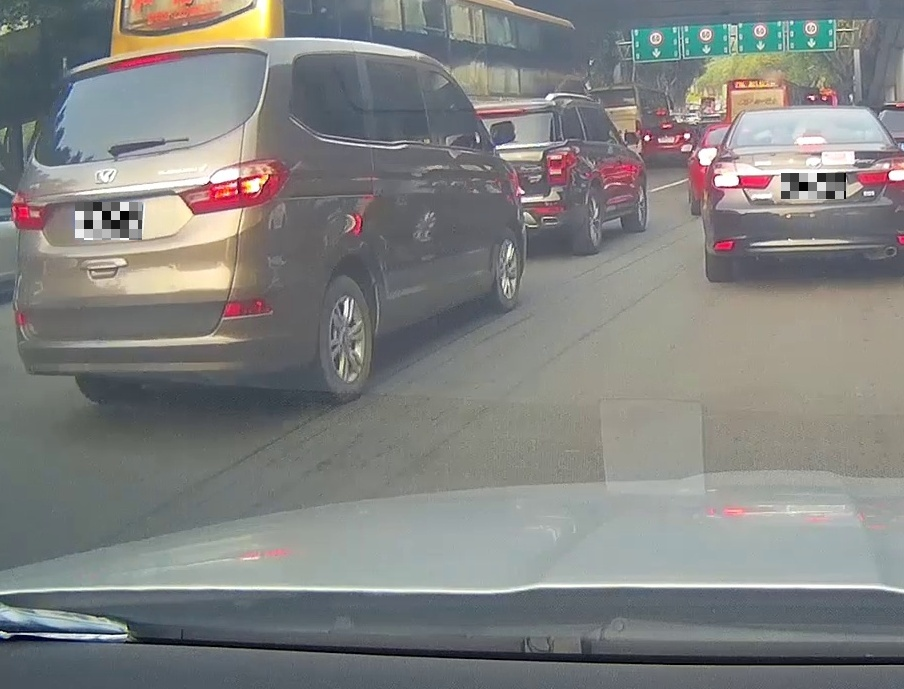L_light: (711, 161, 773, 190), (9, 191, 51, 230), (643, 134, 652, 142)
R_light: (173, 157, 291, 216), (854, 155, 904, 187), (684, 132, 690, 140)
T_light: (104, 51, 186, 71), (793, 136, 827, 146), (661, 123, 674, 130)
day-brake: (702, 104, 904, 283), (641, 121, 694, 166)
day-right: (7, 44, 297, 406)
plate_1: (75, 202, 142, 240)
plate_2: (781, 173, 846, 199)
